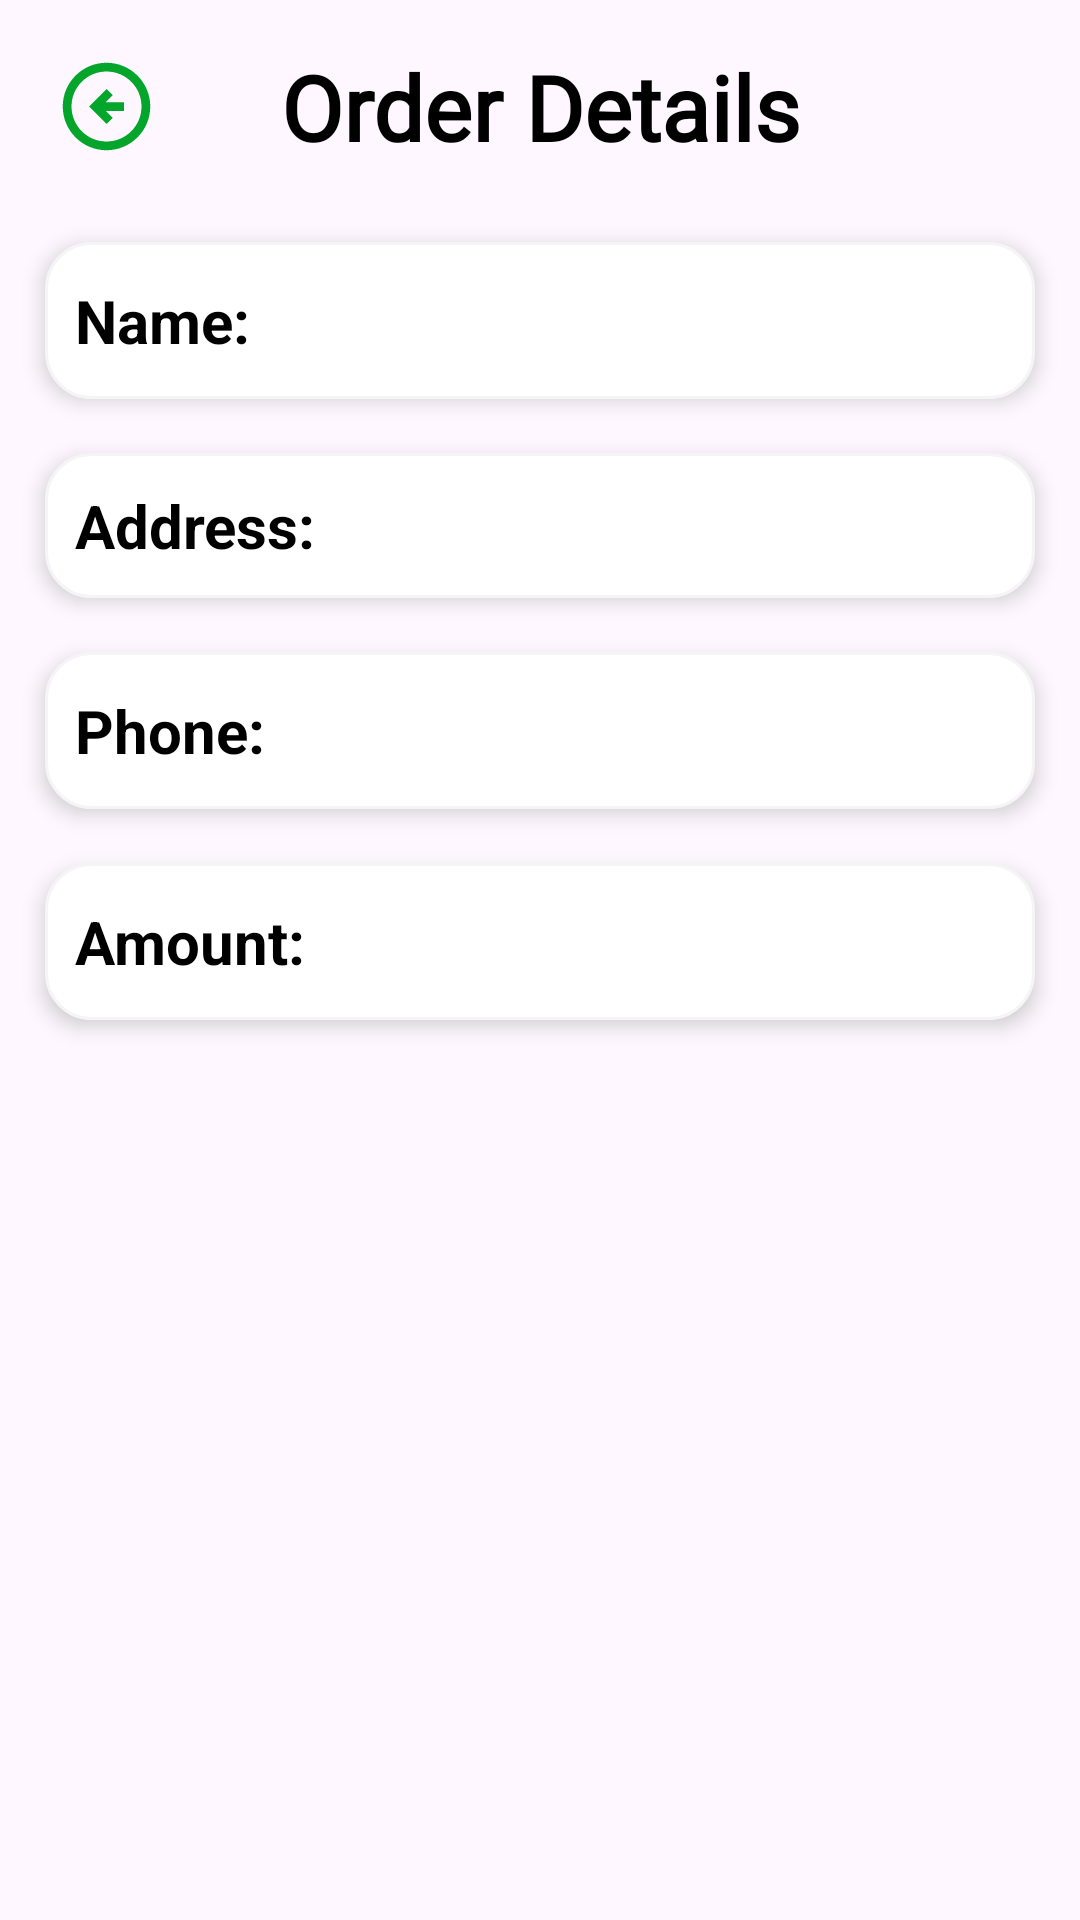

Icons on this 1080×1920 Android screen, each with its box as (x1, y1, x2, y2):
arrow left: (62, 62, 151, 151)
